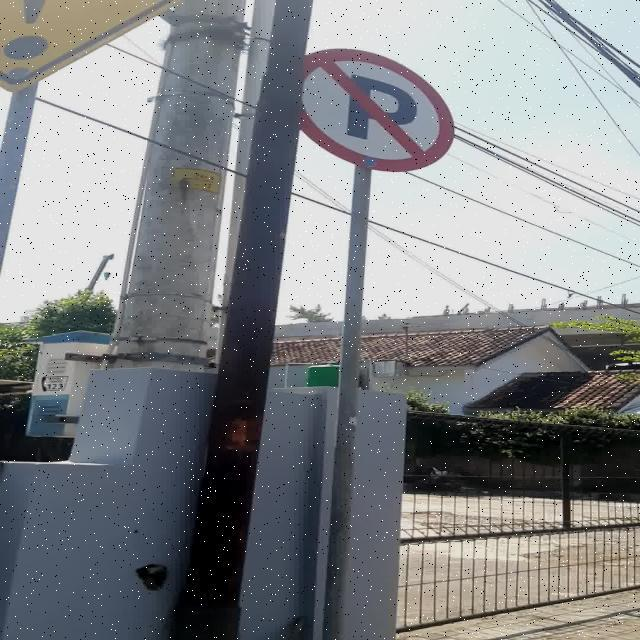Dilarang Parkir: (297, 48, 455, 172)
